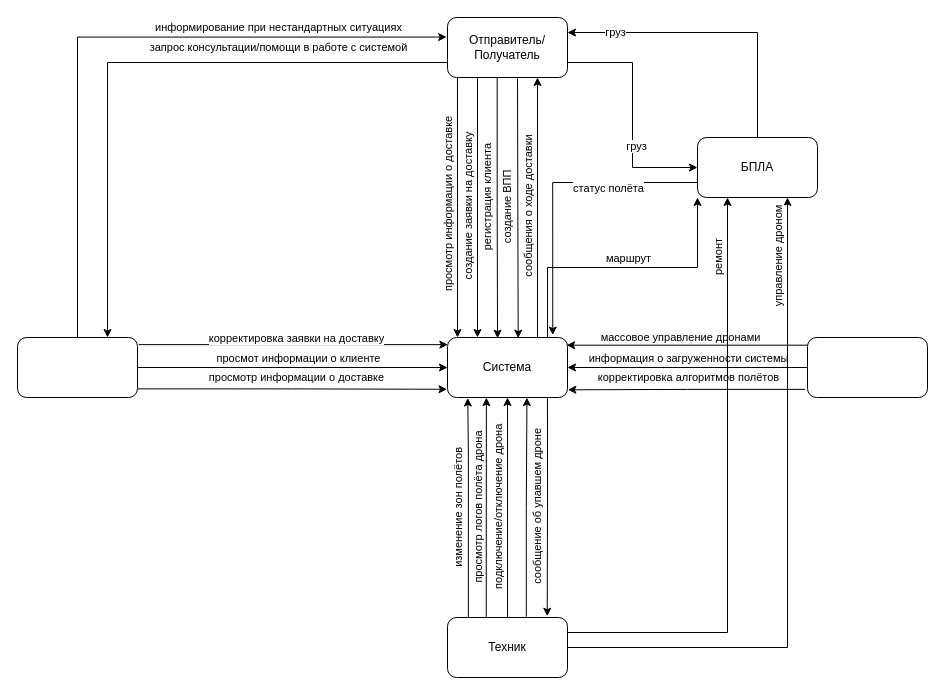
Image size: 945x695. Some labels were removed from this diagram. The shapes that lost their labels are listed below. From the top down, each one's centre as x and y in pixels, then its label:
(x=77, y=367): Сотрудник колл-центра
(x=867, y=367): Оператор
